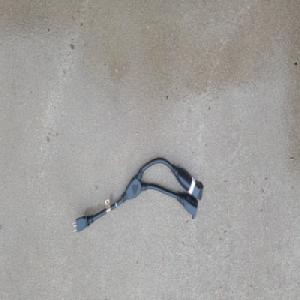Wire: (69, 155, 204, 235)
